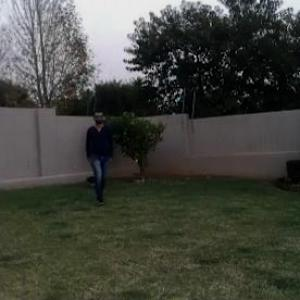follow: (86, 109, 114, 205)
